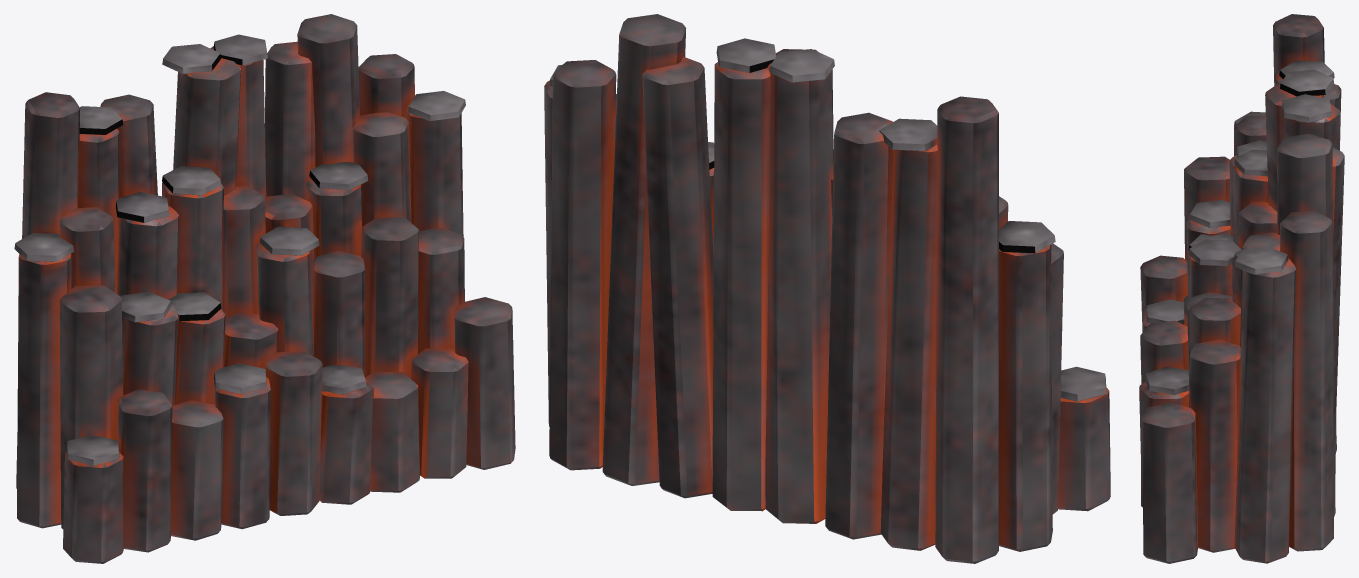
The model's file is Volcan_Orgues.fbx.
3 views of the same model, side by side, from view 1: azimuth 30°, elevation 25°; view 2: azimuth 150°, elevation 25°; view 3: azimuth 270°, elevation 25° (orthographic). The views are drawn at different scales.
Parts seen in each view (by area): view 1: Volcan_Orgues; view 2: Volcan_Orgues; view 3: Volcan_Orgues.
Boxes of the visible parts, x1,y1,x2,y2 form: Volcan_Orgues: [14, 14, 515, 563]; Volcan_Orgues: [544, 14, 1110, 563]; Volcan_Orgues: [1139, 14, 1344, 563].
Size of the model in its own units: 3638 by 3138 by 1565.
1 material, 1 textured.
